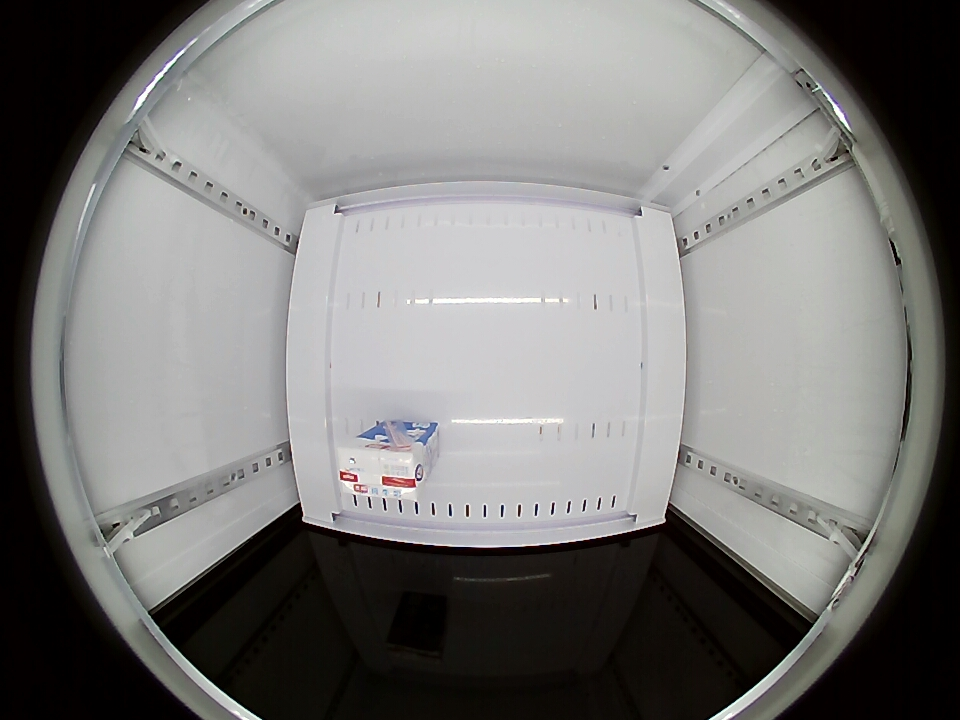niunai: (335, 434, 432, 504)
